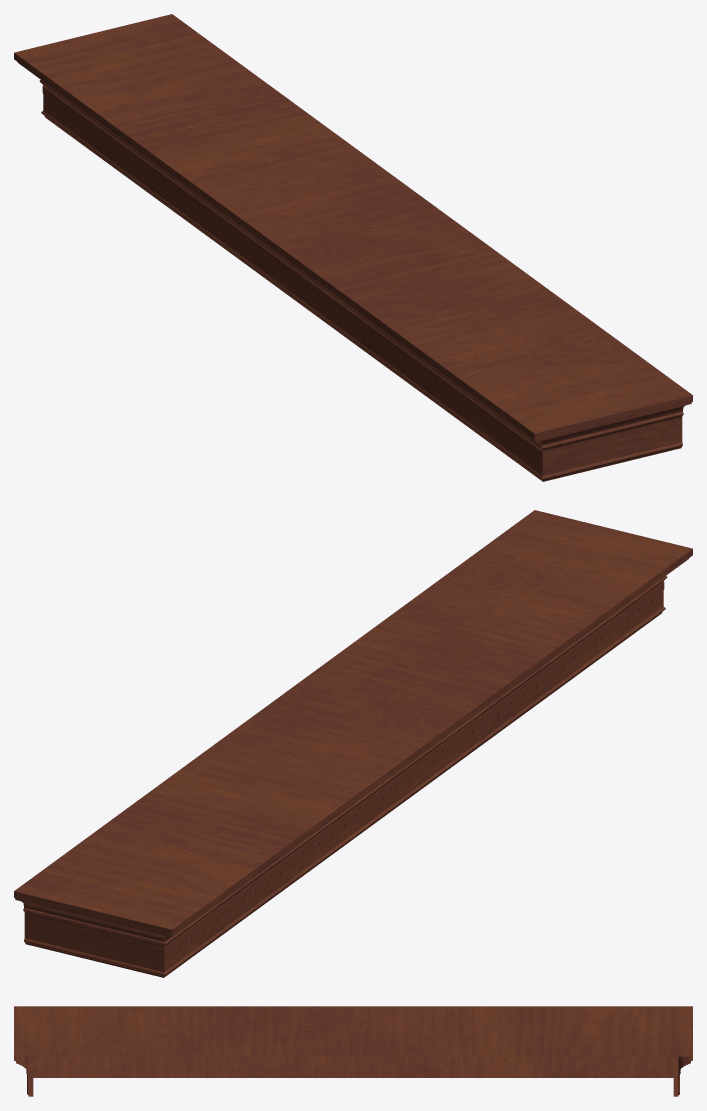
File: SM_WindowFrame06A.fbx
3 views of the same model, one above another, from view 1: azimuth 30°, elevation 25°; view 2: azimuth 150°, elevation 25°; view 3: azimuth 270°, elevation 25° (orthographic). The views are drawn at different scales.
Visible parts, largest first — view 1: SM_WindowFrame06A; view 2: SM_WindowFrame06A; view 3: SM_WindowFrame06A.
Boxes of the visible parts, bbox=[...] form: SM_WindowFrame06A: bbox=[14, 14, 692, 481]; SM_WindowFrame06A: bbox=[14, 510, 692, 977]; SM_WindowFrame06A: bbox=[14, 1006, 692, 1096].
Size of the model in its own units: 54.41 by 310 by 20.11.
